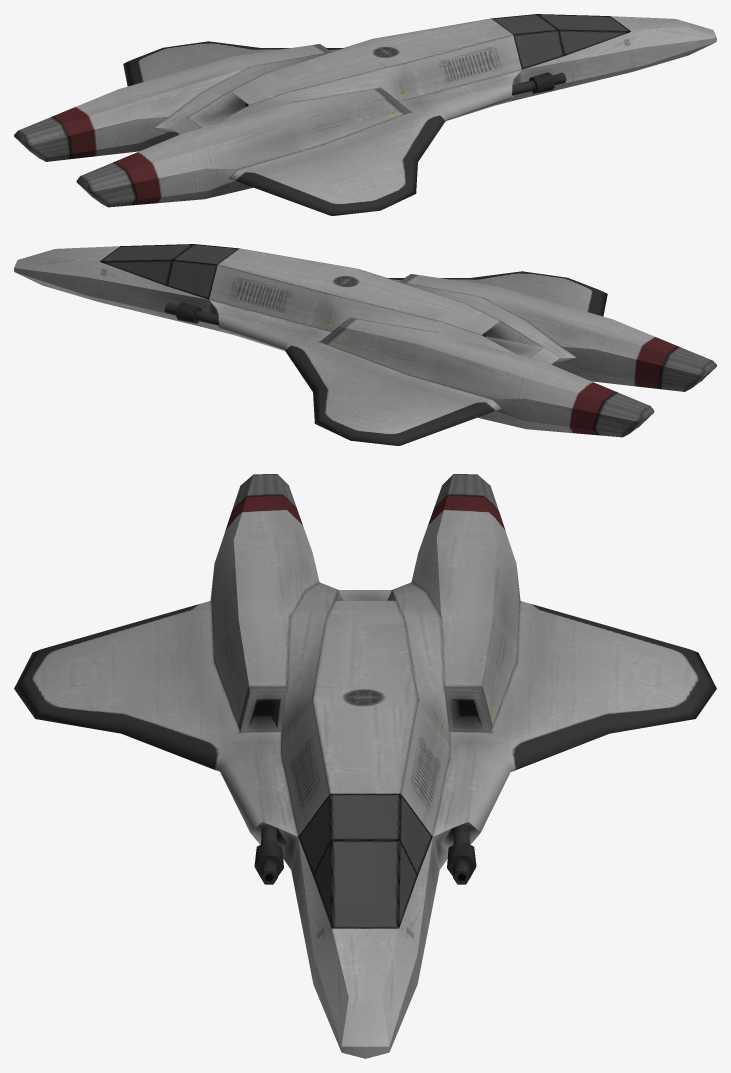
The picture shows the model from 3 angles, top to bottom: view 1: azimuth 30°, elevation 25°; view 2: azimuth 150°, elevation 25°; view 3: azimuth 270°, elevation 25°; orthographic projection. The views are drawn at different scales.
Visible parts, largest first — view 1: mesh_id29, mesh_id34, mesh_id33, mesh_id28; view 2: mesh_id29, mesh_id34, mesh_id33, mesh_id28; view 3: mesh_id29, mesh_id33, mesh_id34.
Part boxes in pixels (box(x1,y1,x2,y2)): mesh_id29: box(14, 16, 716, 215); mesh_id34: box(492, 14, 563, 68); mesh_id33: box(539, 14, 629, 54); mesh_id28: box(537, 14, 630, 55); mesh_id29: box(14, 246, 716, 445); mesh_id34: box(167, 244, 238, 298); mesh_id33: box(101, 244, 191, 284); mesh_id28: box(100, 244, 193, 285); mesh_id29: box(14, 474, 716, 1058); mesh_id33: box(314, 841, 416, 927); mesh_id34: box(299, 794, 431, 873).
Size of the model in its own units: 0.8945 by 0.0956 by 0.512.
Materials: 8 (8 with a texture image).
